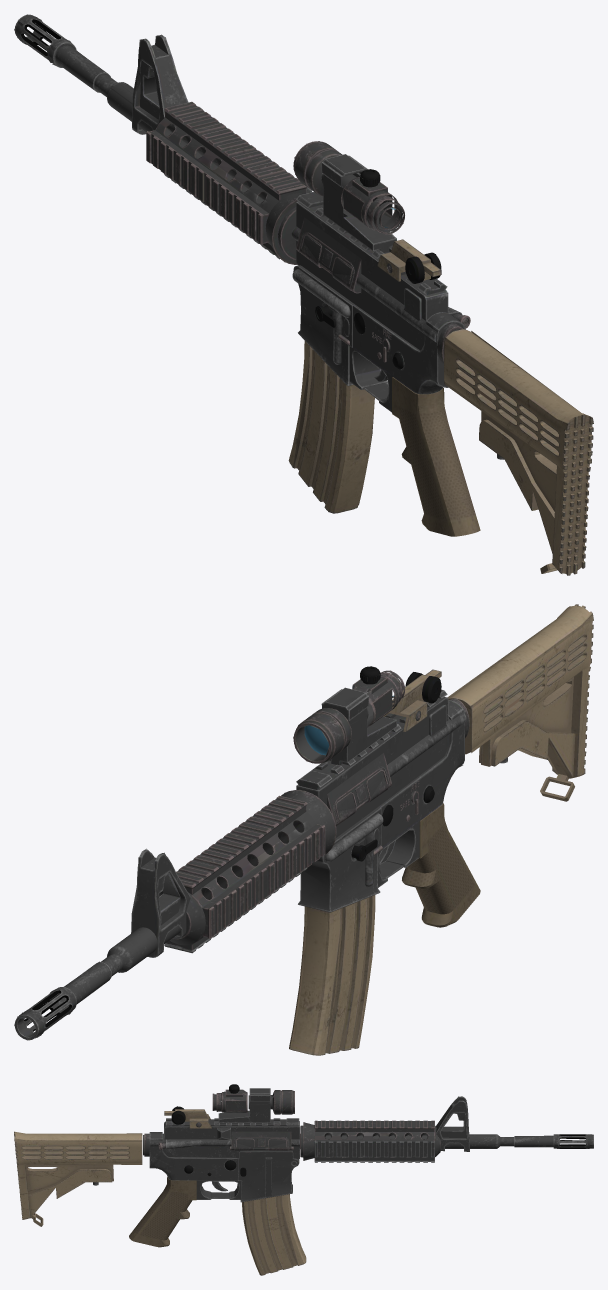
File: rifle.glb
3 views of the same model, one above another, from view 1: azimuth 30°, elevation 25°; view 2: azimuth 150°, elevation 25°; view 3: azimuth 270°, elevation 25° (orthographic). The views are drawn at different scales.
Visible parts, largest first — view 1: rifle_Gun, rifle_GunFull, rifle_Magazine; view 2: rifle_Gun, rifle_GunFull, rifle_Magazine; view 3: rifle_Gun, rifle_GunFull, rifle_Magazine.
Part boxes in pixels (bbox=[...]): rifle_Gun: bbox=[15, 14, 593, 575]; rifle_GunFull: bbox=[14, 14, 593, 574]; rifle_Magazine: bbox=[288, 349, 374, 513]; rifle_Gun: bbox=[14, 604, 593, 1040]; rifle_GunFull: bbox=[14, 606, 592, 1055]; rifle_Magazine: bbox=[291, 895, 375, 1055]; rifle_Gun: bbox=[14, 1084, 593, 1247]; rifle_GunFull: bbox=[14, 1084, 593, 1275]; rifle_Magazine: bbox=[242, 1194, 306, 1275].
Bounding box in the file's own units: 0.0563 × 0.2986 × 0.84.
1 material, 1 textured.
